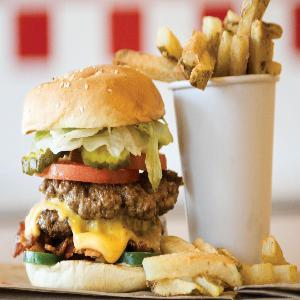cheeseburger_475cal: (13, 59, 180, 297)
fries_350cal: (116, 2, 290, 91)
